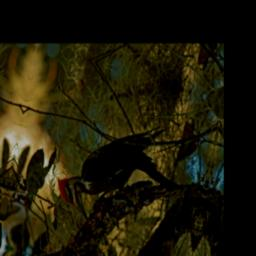Woodpecker: (51, 99, 168, 239)
